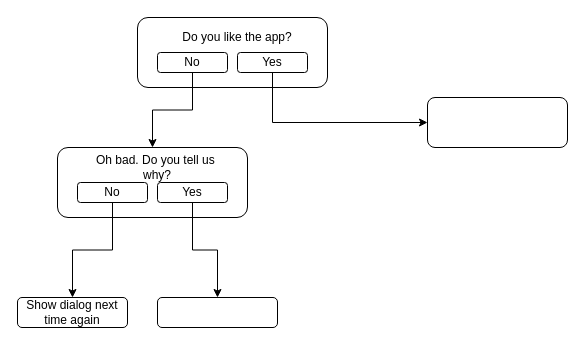
The diagram is 585 pixels wide and 345 high, and some of its shapes have lost their labels. The box of each missing label's shape, as (x1, y1, x2, y2) in pixels:
open mail app: (156, 296, 278, 328)
Show App Store Rating Dialog: (426, 96, 568, 148)
